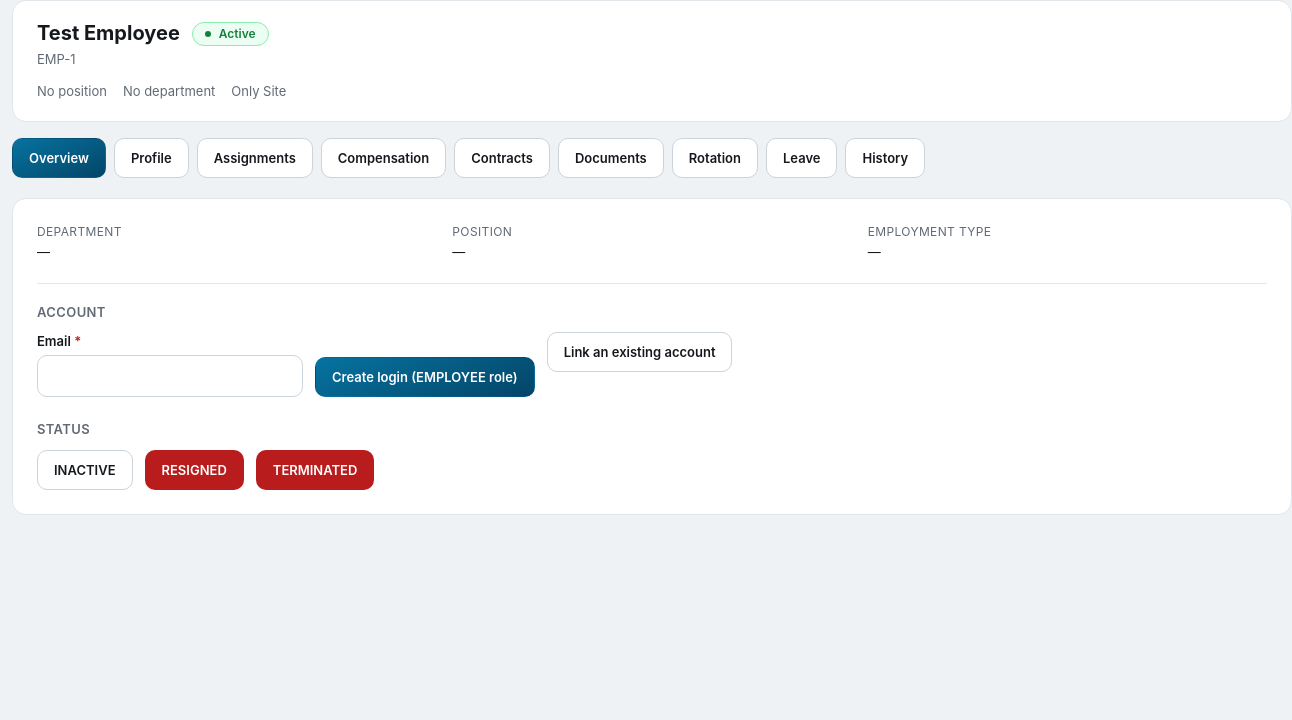
Test: EmployeeDetailPage transfer: target-site / active-catalog consistency › site-scoped actor (single site returned) gets no Site selector, and Department/Position load from that site immediately
Expected: the heading "Test Employee" is shown, [37,21,180,46]
Click the button "Assignments" at (255, 158), box [197,138,313,178]
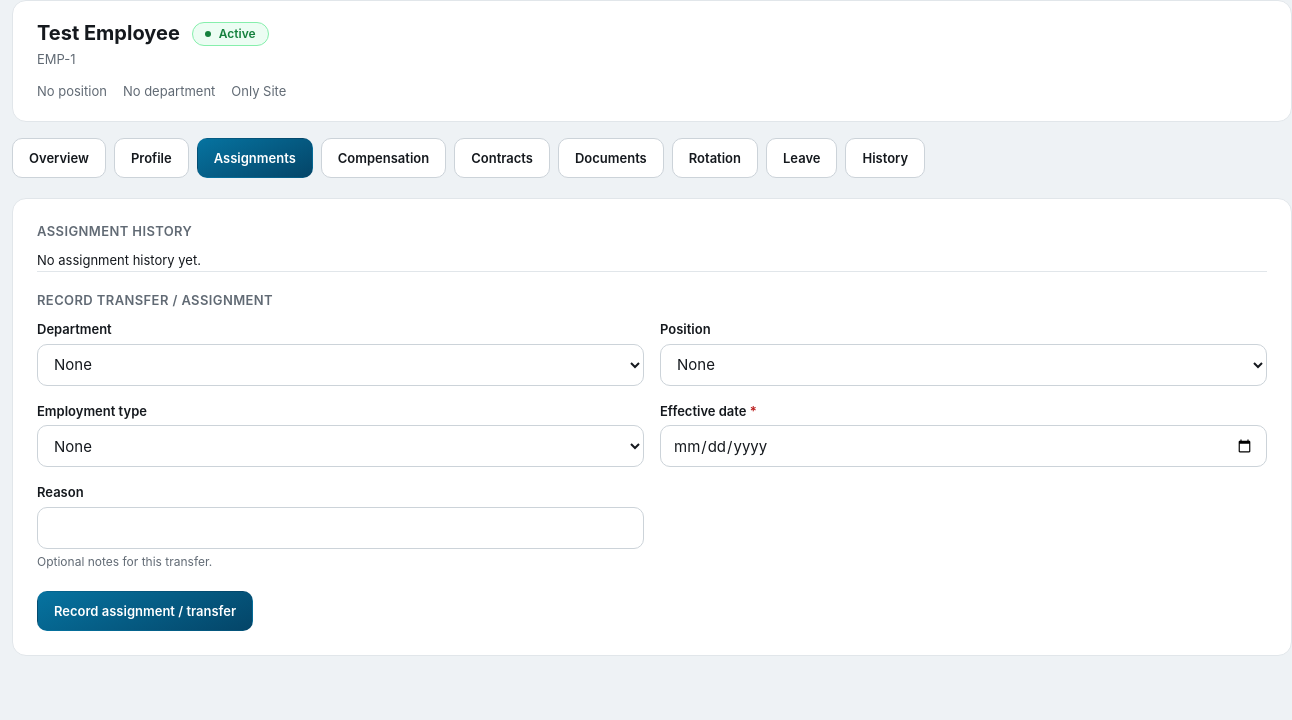
Result: the heading "Assignment history" is shown at [37,223,192,239]
